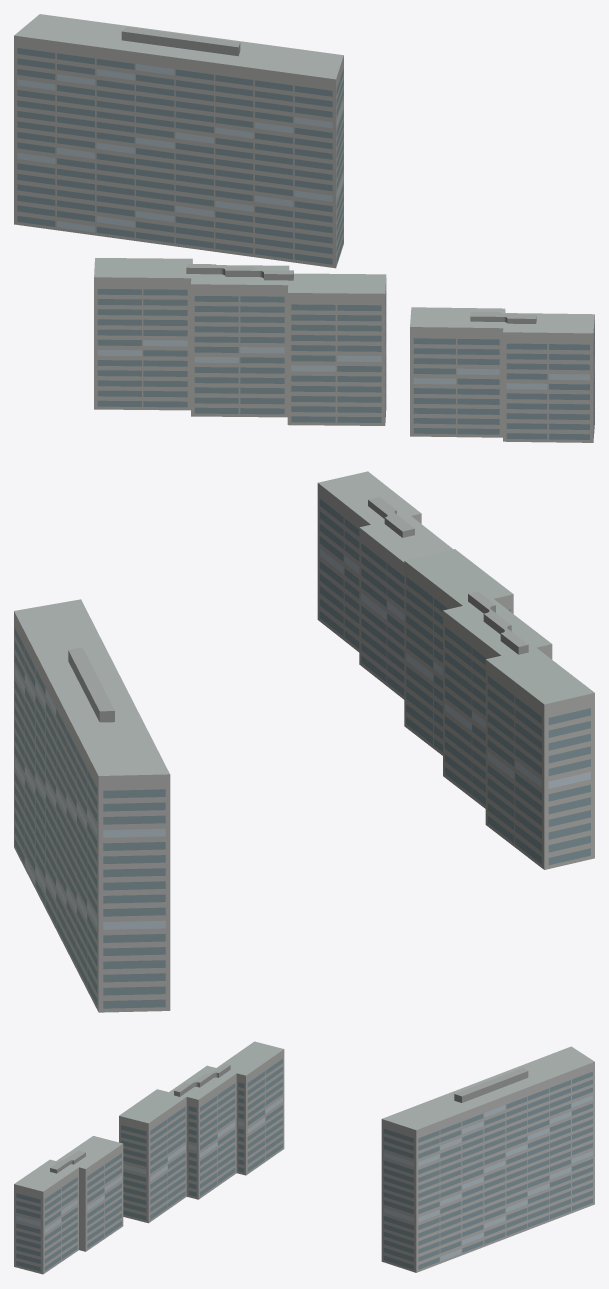
File: apt-a10024428.glb
3 renders of one model, top to bottom at view 1: azimuth 30°, elevation 25°; view 2: azimuth 150°, elevation 25°; view 3: azimuth 270°, elevation 25°, orthographic. The views are drawn at different scales.
Parts seen in each view (by area): view 1: apt-a10024428; view 2: apt-a10024428; view 3: apt-a10024428.
Boxes of the visible parts, box(x1,y1,x2,y2) form: apt-a10024428: box(14, 14, 594, 442); apt-a10024428: box(14, 471, 594, 1012); apt-a10024428: box(14, 1041, 594, 1274).
Size of the model in its own units: 95.53 by 50 by 176.
